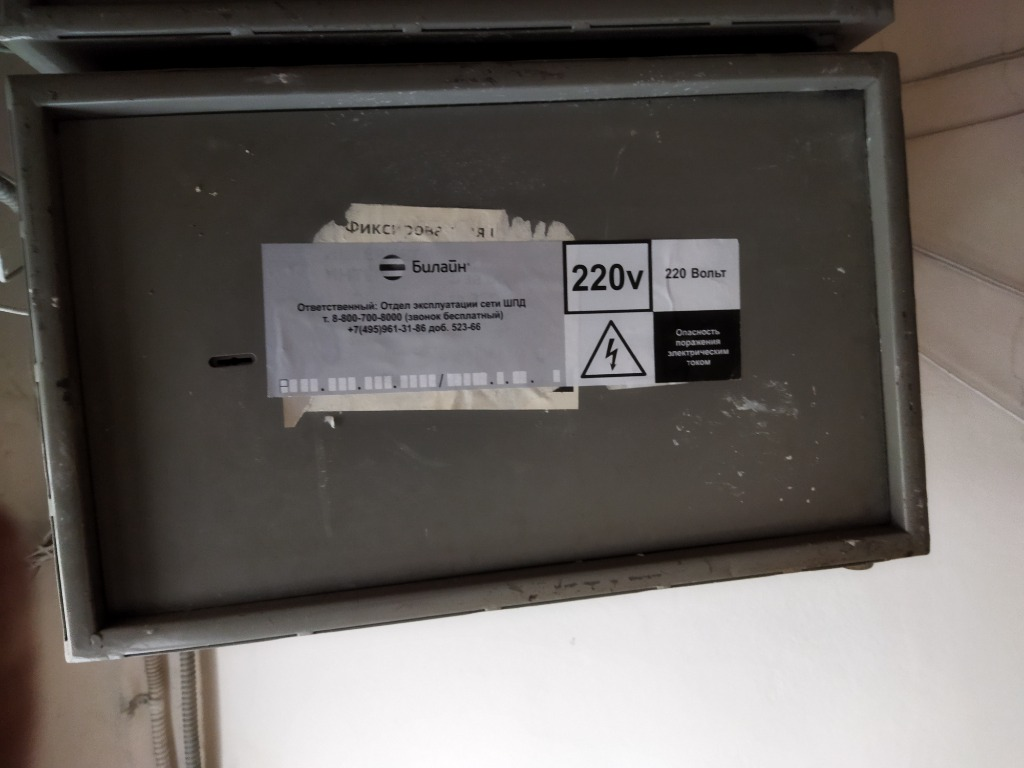e2-6u: (3, 39, 938, 669)
